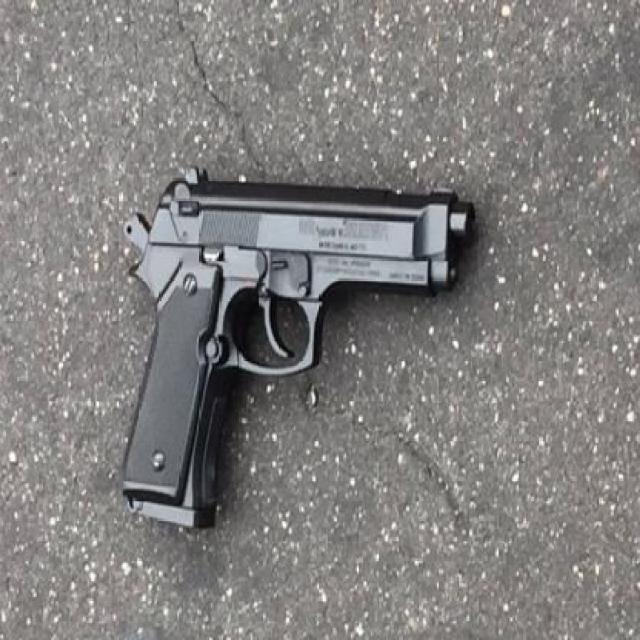pistol: (96, 177, 484, 533)
